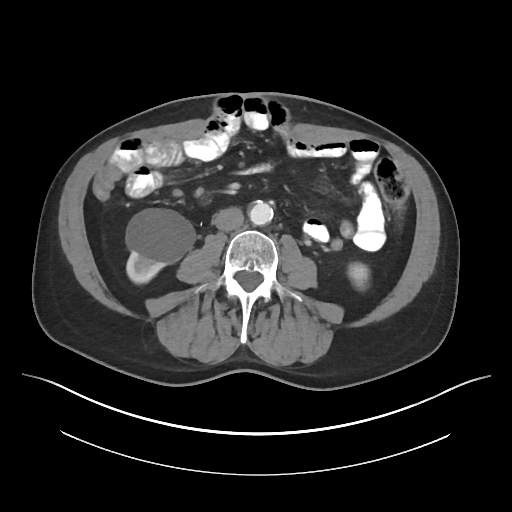Lesion: (124, 206, 196, 266)
